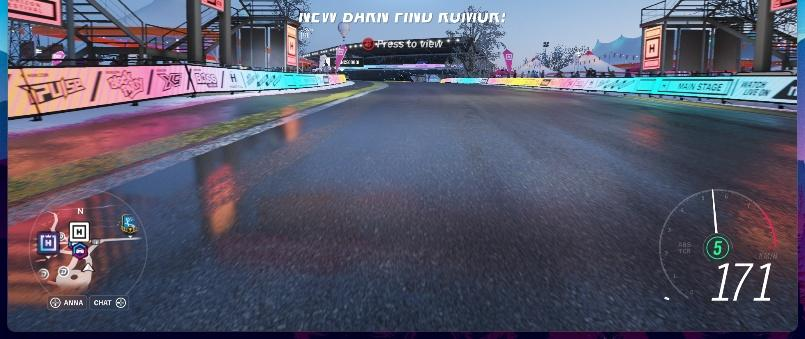House: (638, 0, 797, 76), (560, 49, 626, 77)
Tree: (444, 4, 506, 77), (536, 43, 582, 76)
